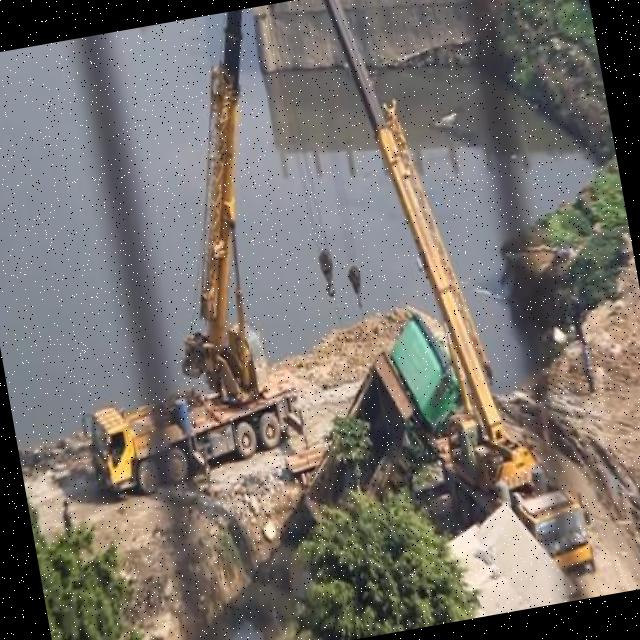Dump Truck: (261, 310, 471, 528)
Mobile Crane: (320, 0, 600, 606), (20, 11, 311, 497)
